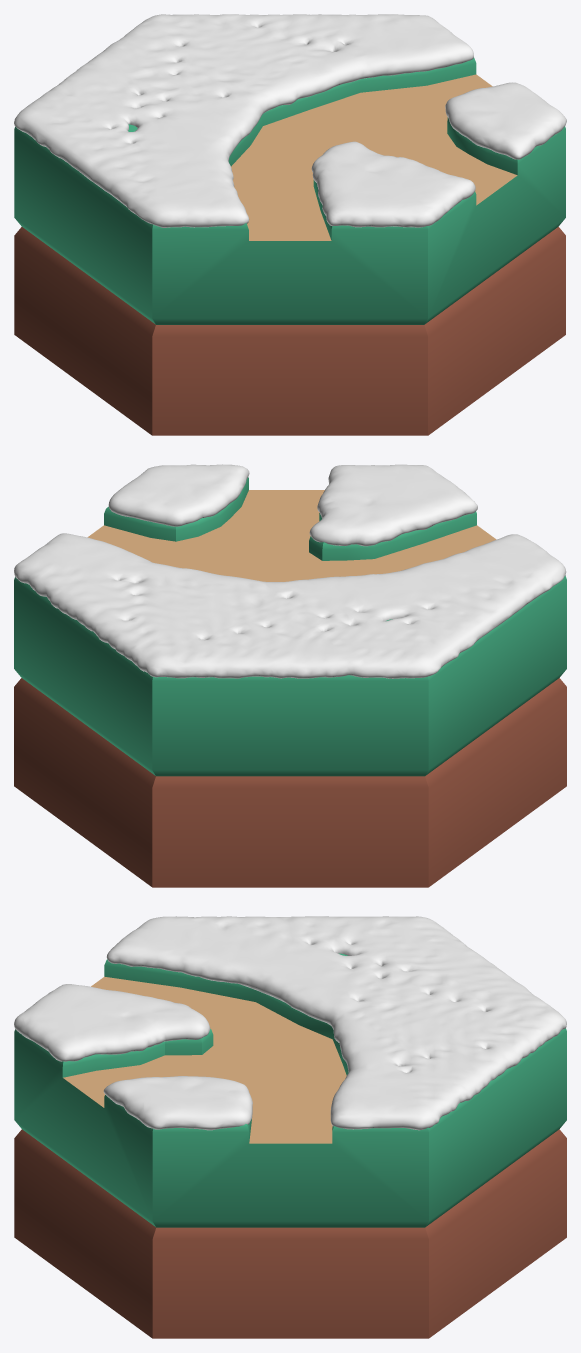
The model's file is snow_hex_forest_roadH_detail.fbx.
3 renders of one model, top to bottom at view 1: azimuth 30°, elevation 25°; view 2: azimuth 150°, elevation 25°; view 3: azimuth 270°, elevation 25°, orthographic.
Parts seen in each view (by area): view 1: SnowBall.001, hex_forest_roadH_detail.002, hex_forest_roadH_detail.001, hex_forest_roadH_detail; view 2: SnowBall.001, hex_forest_roadH_detail.002, hex_forest_roadH_detail.001, hex_forest_roadH_detail; view 3: SnowBall.001, hex_forest_roadH_detail.002, hex_forest_roadH_detail.001, hex_forest_roadH_detail.
Boxes of the visible parts, bbox=[...] form: SnowBall.001: bbox=[14, 14, 566, 227]; hex_forest_roadH_detail.002: bbox=[14, 227, 565, 435]; hex_forest_roadH_detail.001: bbox=[14, 58, 565, 324]; hex_forest_roadH_detail: bbox=[231, 74, 517, 240]; SnowBall.001: bbox=[14, 464, 566, 678]; hex_forest_roadH_detail.002: bbox=[14, 678, 566, 887]; hex_forest_roadH_detail.001: bbox=[14, 477, 566, 776]; hex_forest_roadH_detail: bbox=[87, 490, 496, 581]; SnowBall.001: bbox=[14, 916, 566, 1130]; hex_forest_roadH_detail.002: bbox=[14, 1129, 566, 1338]; hex_forest_roadH_detail.001: bbox=[14, 953, 566, 1227]; hex_forest_roadH_detail: bbox=[63, 976, 346, 1143].
Size of the model in its own units: 203 by 104 by 231.
